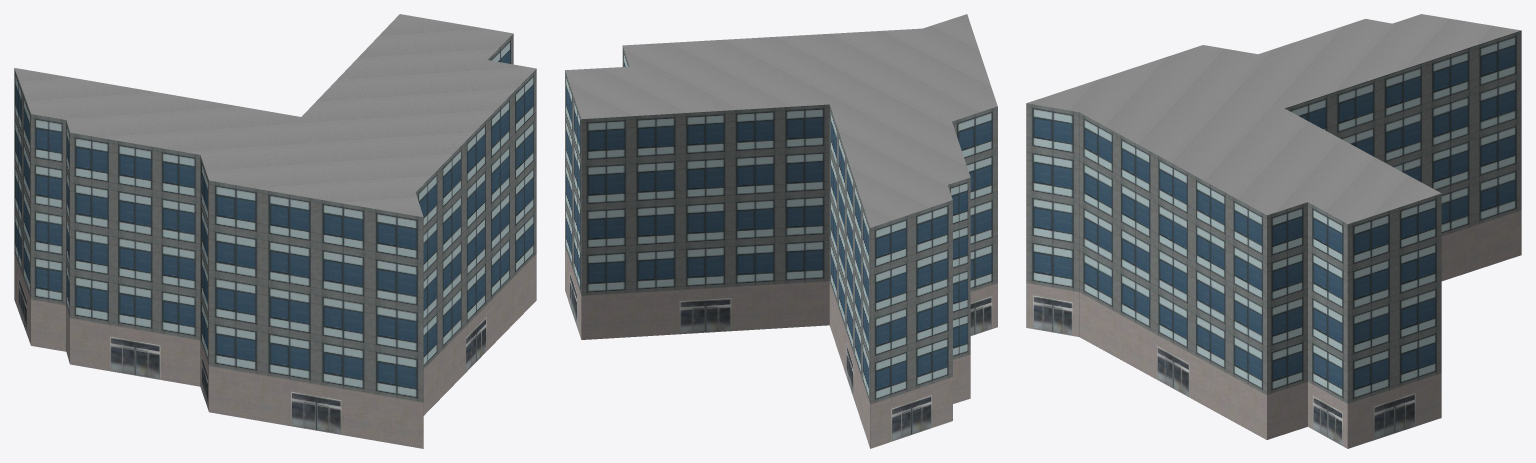
The picture shows the model from 3 angles, left to right: view 1: azimuth 30°, elevation 25°; view 2: azimuth 150°, elevation 25°; view 3: azimuth 270°, elevation 25°; orthographic projection. The views are drawn at different scales.
Visible parts, largest first — view 1: BuildingMaster_1979193890784462590600000000_0, BuildingMaster_1979193890784462590600000000_1; view 2: BuildingMaster_1979193890784462590600000000_0, BuildingMaster_1979193890784462590600000000_1; view 3: BuildingMaster_1979193890784462590600000000_0, BuildingMaster_1979193890784462590600000000_1.
Part boxes in pixels (<box>): BuildingMaster_1979193890784462590600000000_0: <box>14,34,536,448</box>; BuildingMaster_1979193890784462590600000000_1: <box>14,14,536,217</box>; BuildingMaster_1979193890784462590600000000_0: <box>565,46,997,448</box>; BuildingMaster_1979193890784462590600000000_1: <box>565,14,997,227</box>; BuildingMaster_1979193890784462590600000000_0: <box>1026,30,1521,448</box>; BuildingMaster_1979193890784462590600000000_1: <box>1027,14,1521,224</box>.
Size of the model in its own units: 35.15 by 17.5 by 34.98.
2 materials, 2 textured.
